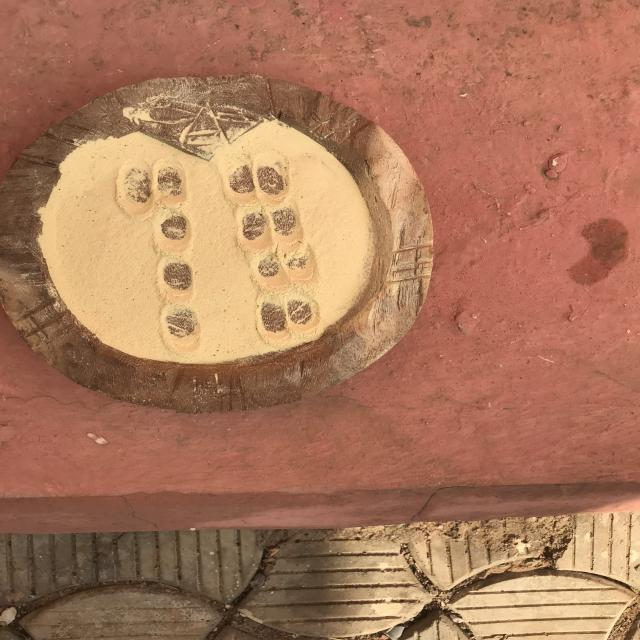double: (213, 151, 297, 206), (112, 156, 192, 213), (252, 292, 327, 342), (232, 199, 310, 247), (240, 246, 326, 288)
single: (160, 301, 204, 356), (150, 211, 198, 256), (153, 257, 200, 299)
